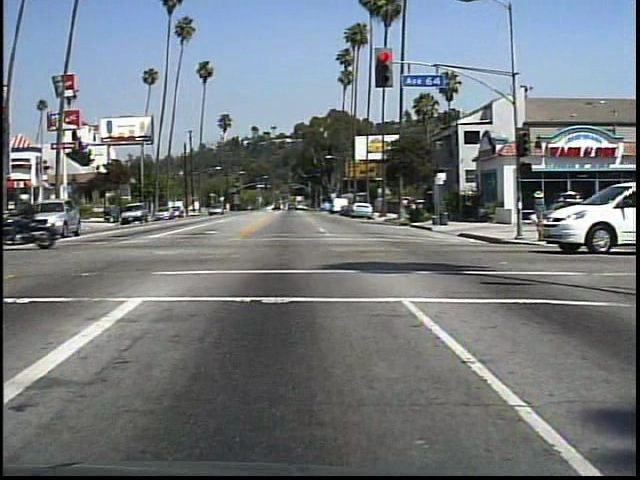person: (527, 186, 551, 222)
